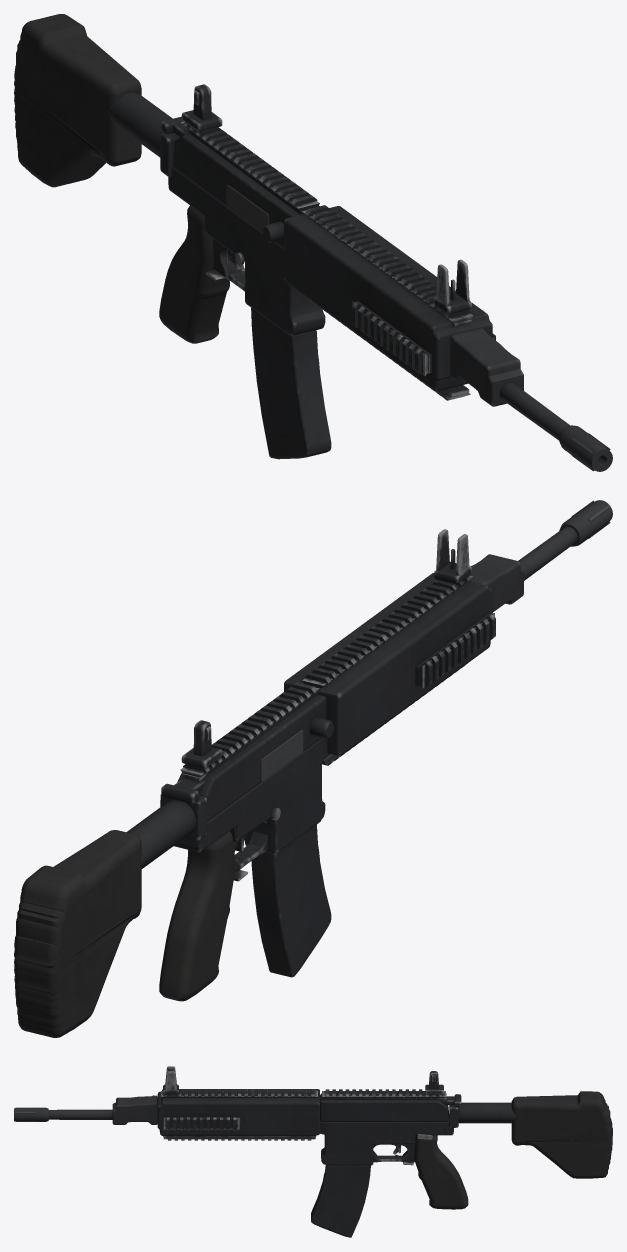
3 views of the same model, one above another, from view 1: azimuth 30°, elevation 25°; view 2: azimuth 150°, elevation 25°; view 3: azimuth 270°, elevation 25° (orthographic). The views are drawn at different scales.
Visible parts, largest first — view 1: body, mag_mesh; view 2: body, mag_mesh, charging_handle_mesh; view 3: body, mag_mesh.
Boxes of the visible parts, left/top/right/bottom form: body: left=14, top=14, right=612, bottom=471; mag_mesh: left=251, top=308, right=331, bottom=459; body: left=14, top=500, right=612, bottom=1037; mag_mesh: left=251, top=824, right=331, bottom=977; charging_handle_mesh: left=161, top=778, right=205, bottom=803; body: left=14, top=1066, right=612, bottom=1209; mag_mesh: left=311, top=1165, right=370, bottom=1237.
Size of the model in its own units: 0.0708 by 0.2753 by 0.9.
Materials: 1 (1 with a texture image).
